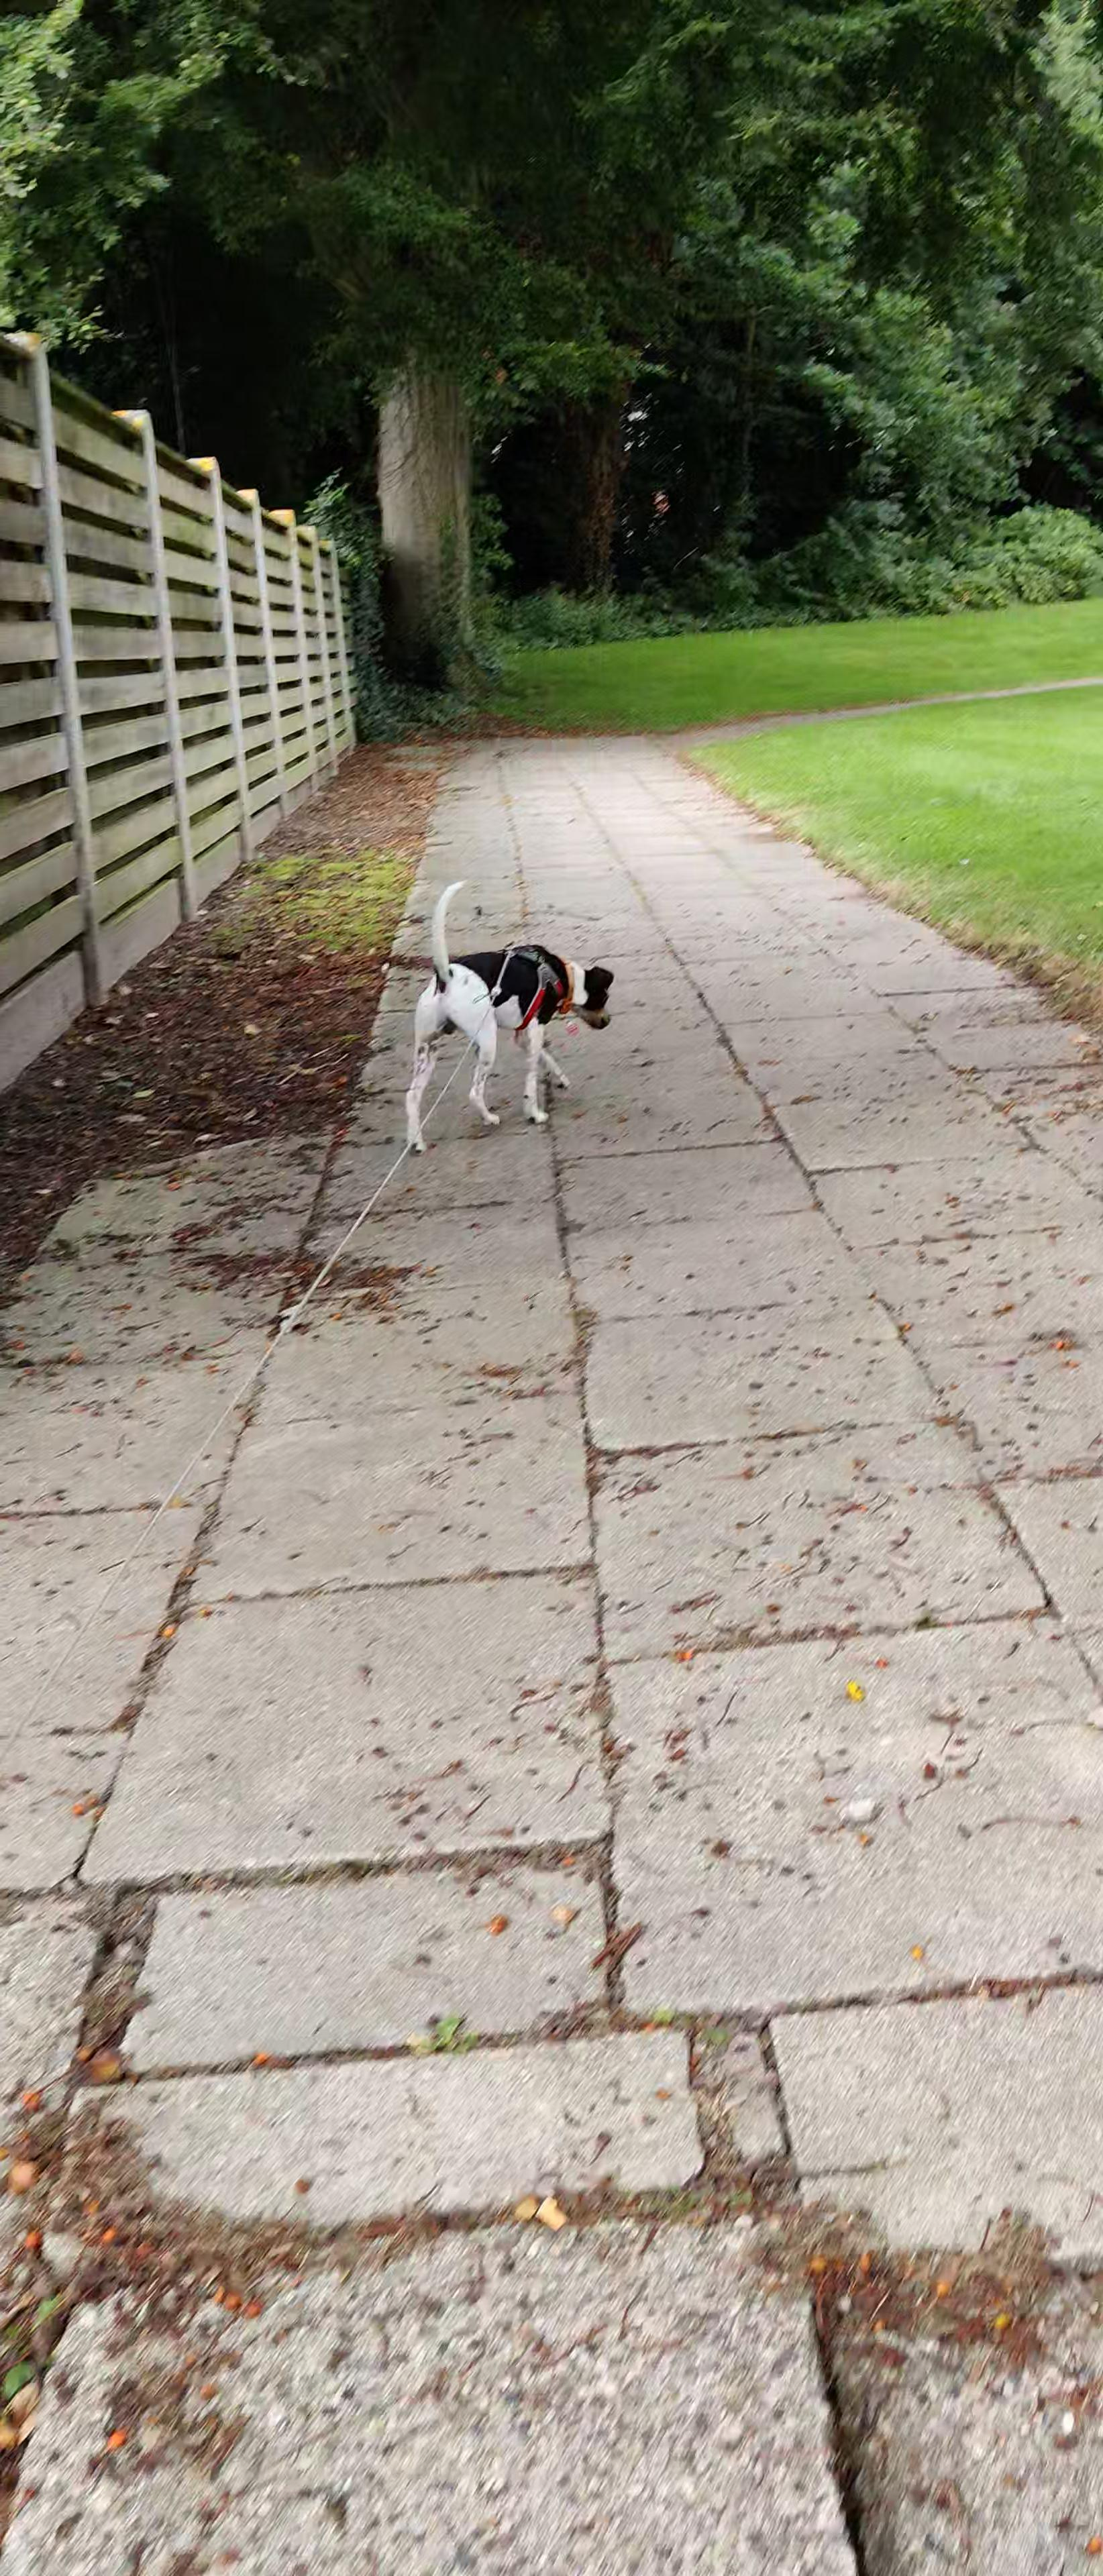Dog: (398, 876, 616, 1157)
